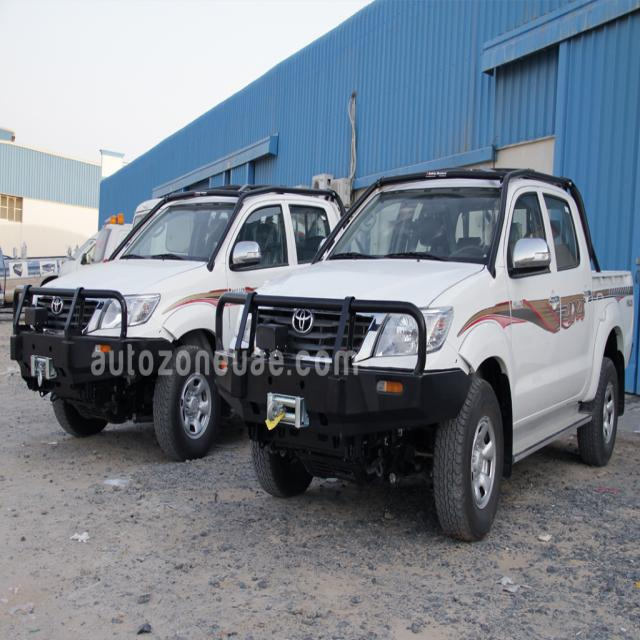light_vehicle: (220, 166, 639, 557)
